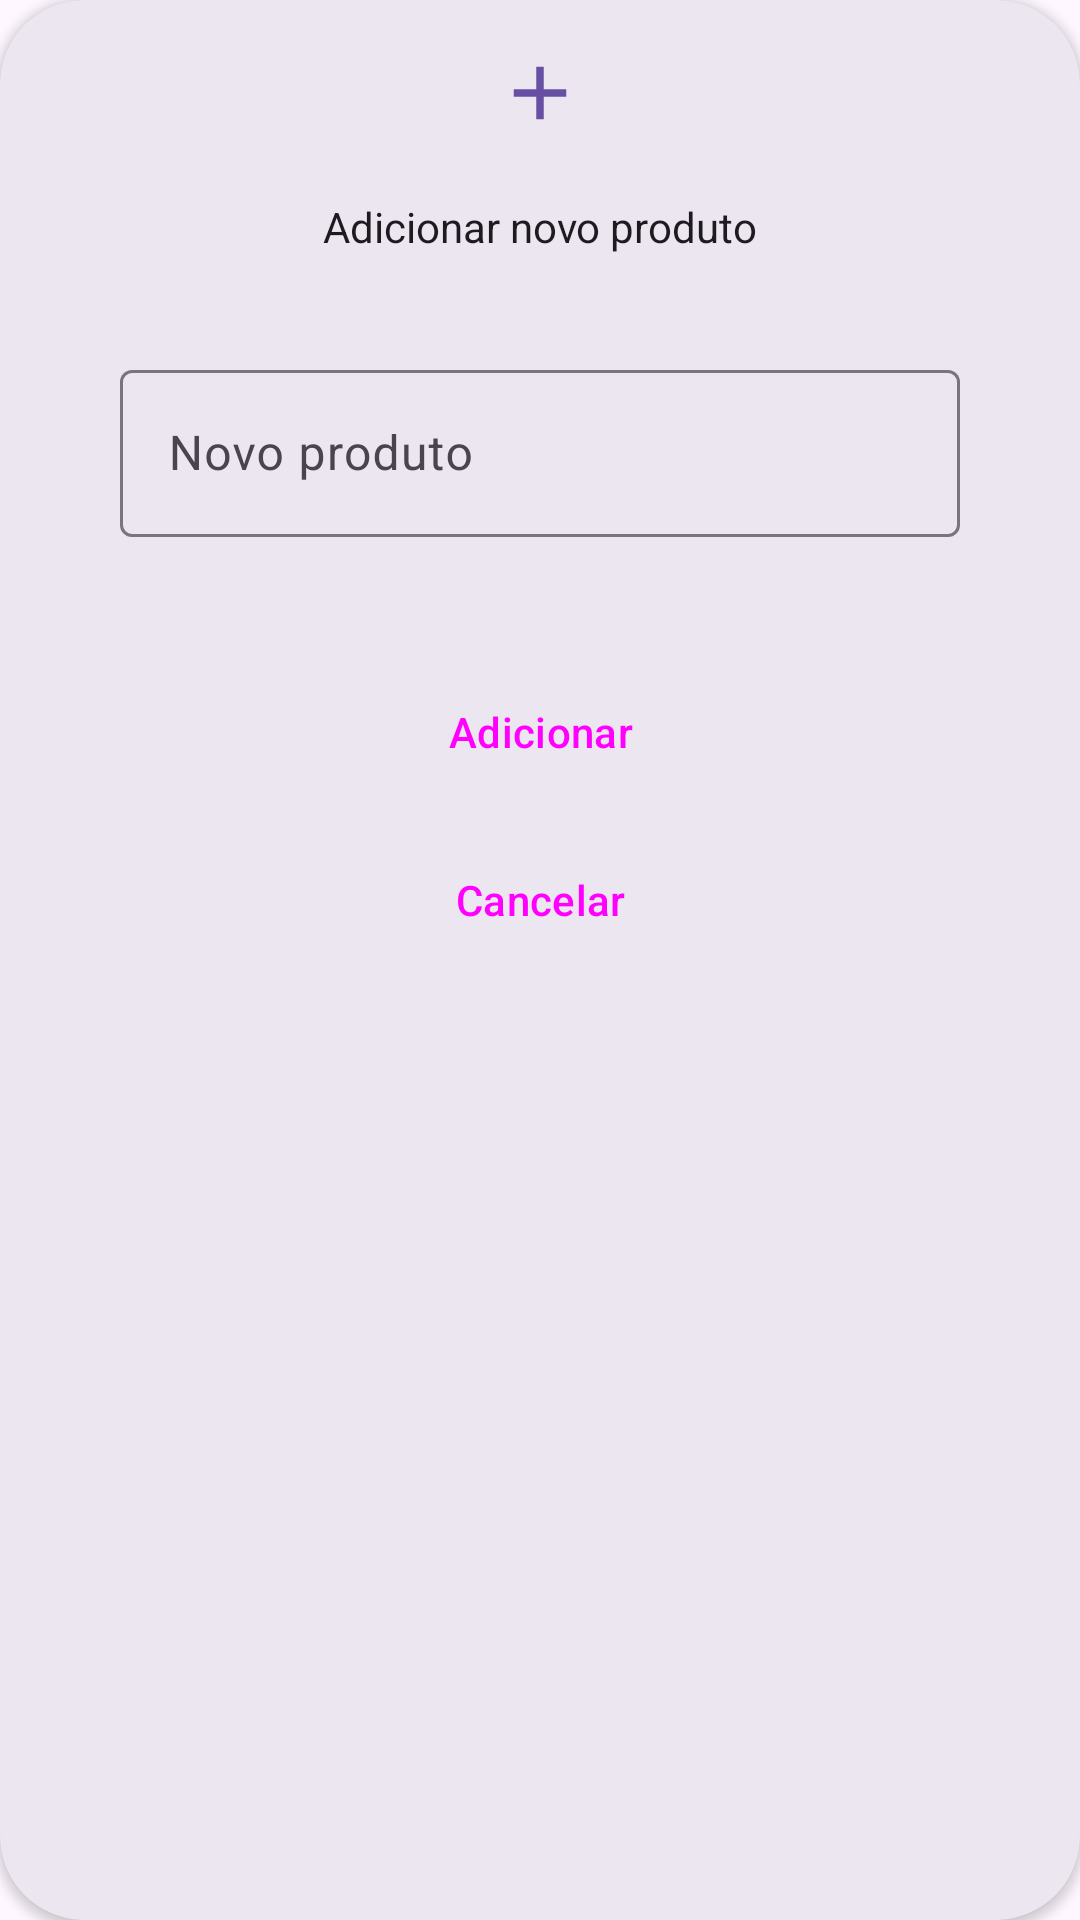

Point at icon controls on the screen. Image size 1080w x 1920h, points as [x,y].
Ícone de soma: [540,93]
